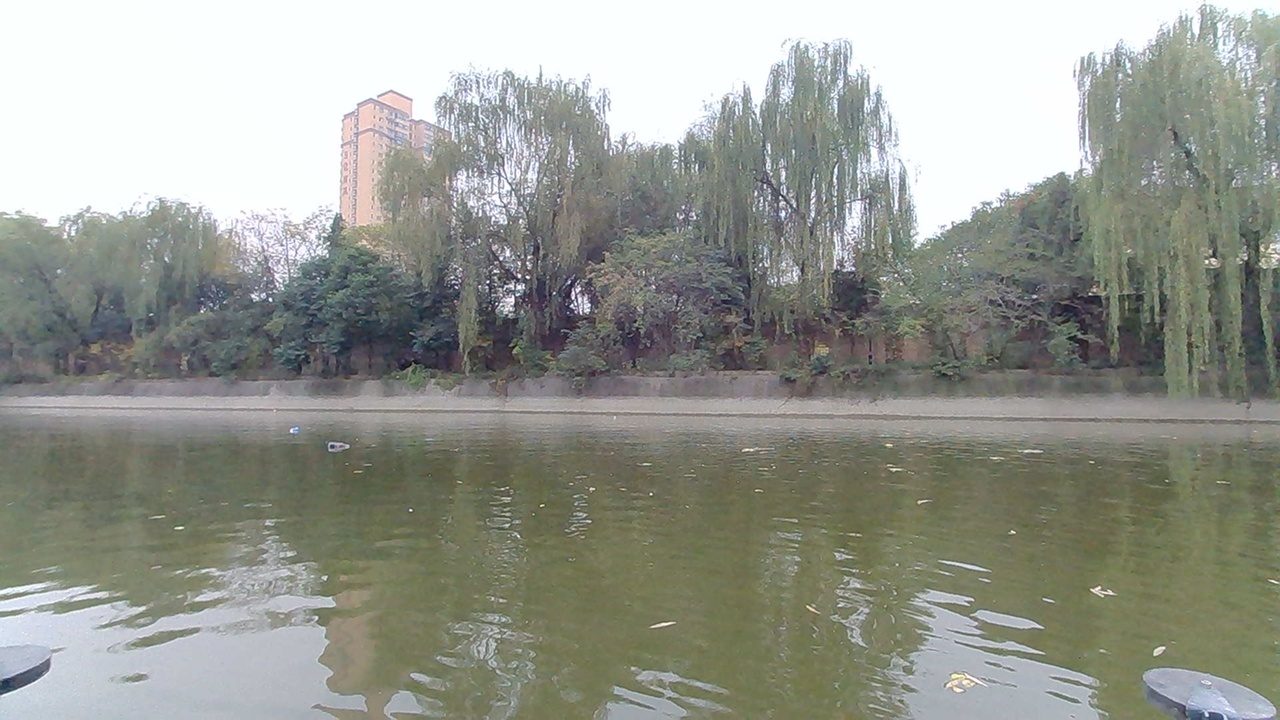bottle: (321, 427, 365, 455), (282, 416, 315, 440)
